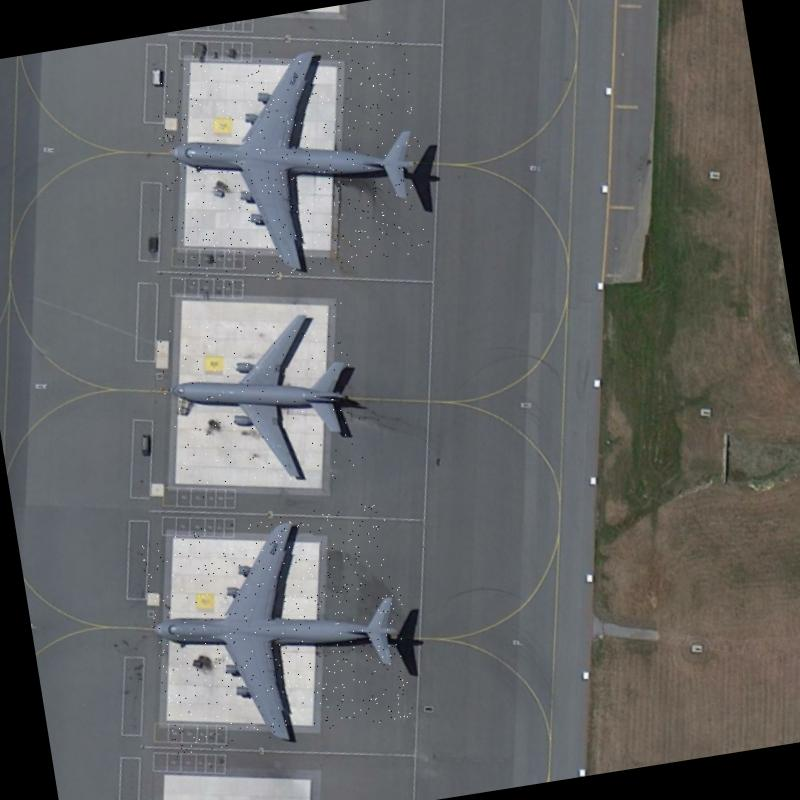A18: (152, 301, 368, 504)
A4: (146, 29, 438, 295), (138, 498, 420, 754)
